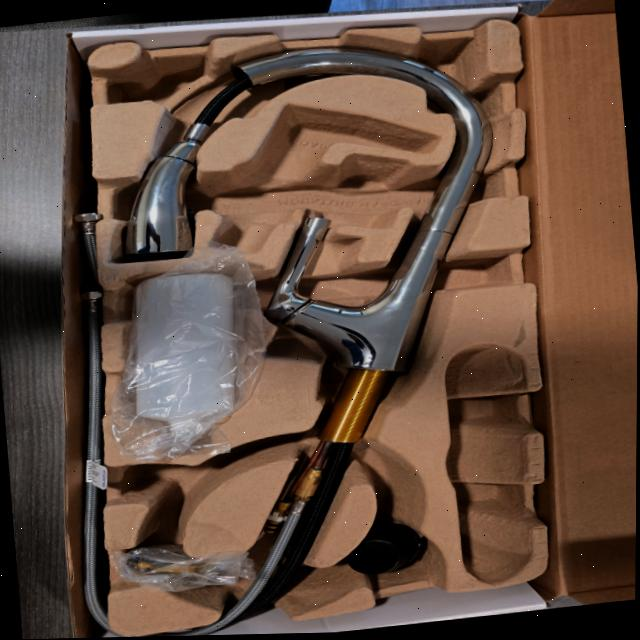1: (126, 44, 492, 630)
2m: (210, 106, 438, 253)
3: (135, 273, 233, 445)
4m: (444, 346, 530, 581)
5: (344, 521, 428, 573)
6: (106, 543, 249, 596)
7m: (123, 443, 254, 533)
